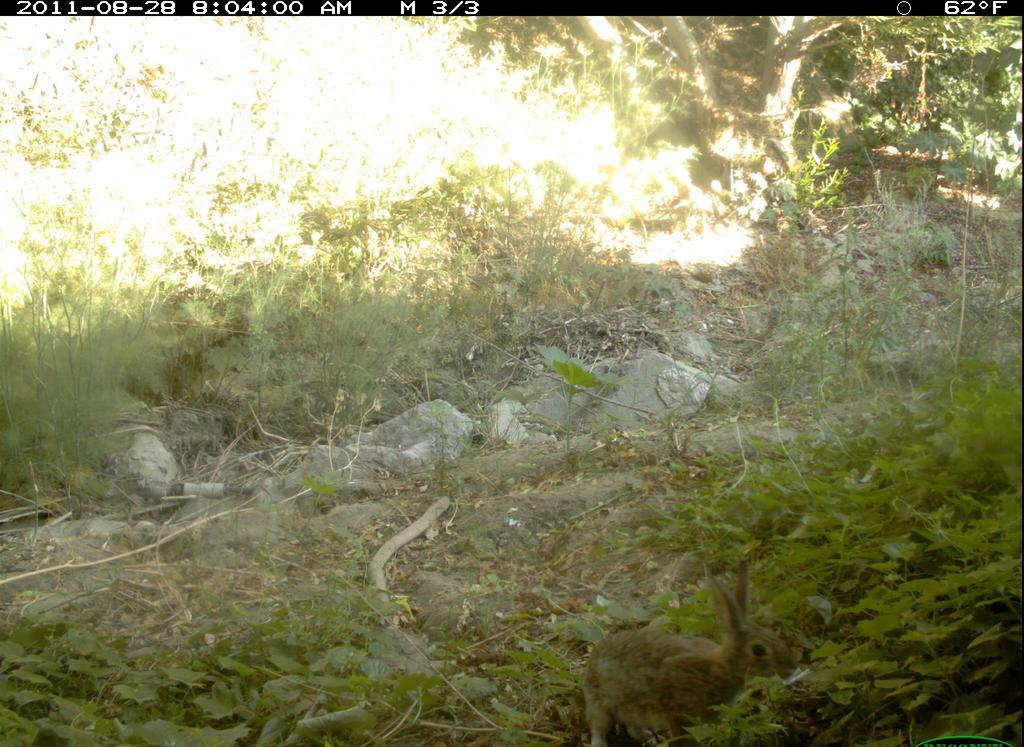rabbit: (570, 556, 801, 747)
